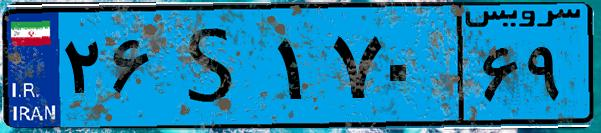0: (385, 28, 445, 110)
1: (270, 28, 330, 110)
2: (57, 26, 110, 100)
6: (475, 38, 525, 113), (110, 28, 158, 98)
7: (330, 28, 385, 110)
9: (525, 38, 570, 115)
S: (158, 12, 270, 120)
